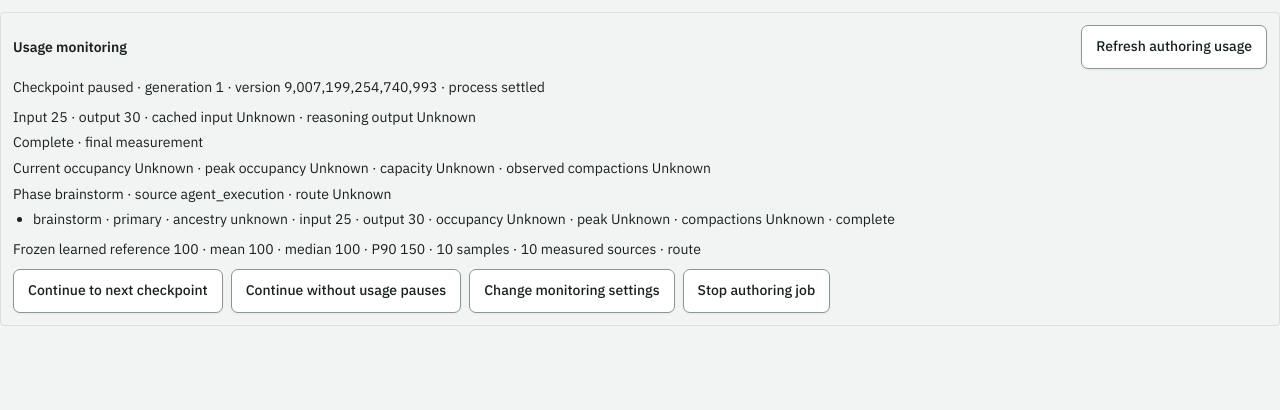
Test case: continues authoring from an exact high checkpoint version
Click the button "Continue without usage pauses" at coordinates (346, 291), box [231,269,461,313]
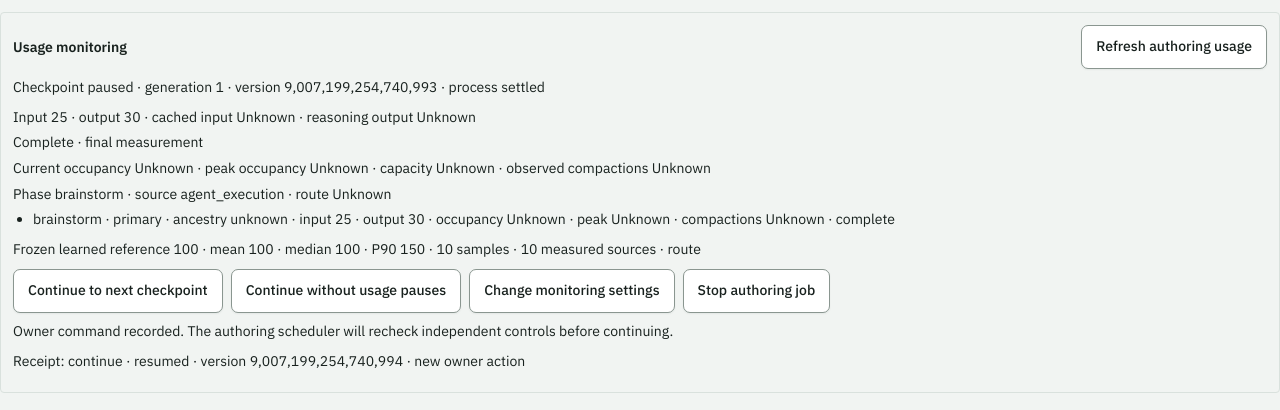
Expected: the text "Owner command recorded" is shown, [13,322,673,340]
